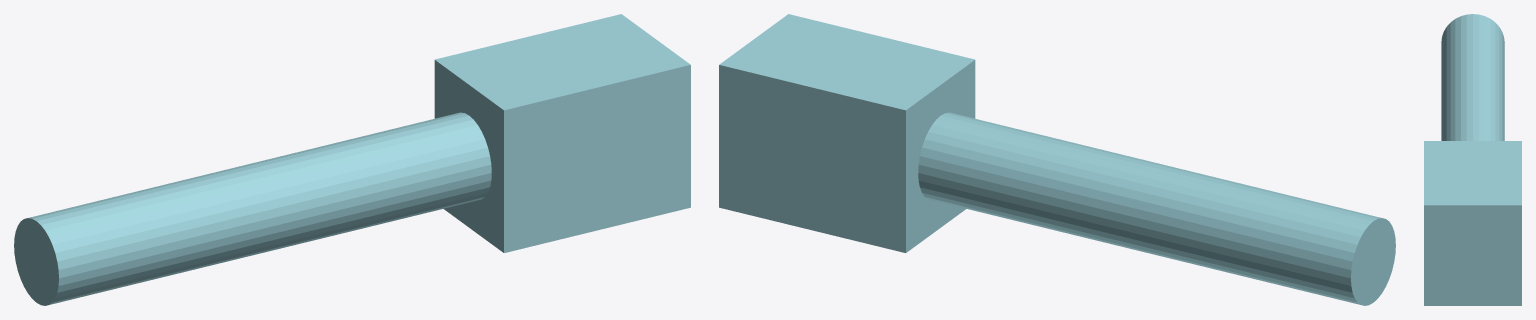
Rendered from cylinder_brush_v9002.obj.
The picture shows the model from 3 angles, left to right: view 1: azimuth 30°, elevation 25°; view 2: azimuth 150°, elevation 25°; view 3: azimuth 270°, elevation 25°; orthographic projection. The views are drawn at different scales.
Bounding box in the file's own units: 0.1991 × 0.0439 × 0.0386.
Materials: 1 (1 with a texture image).
